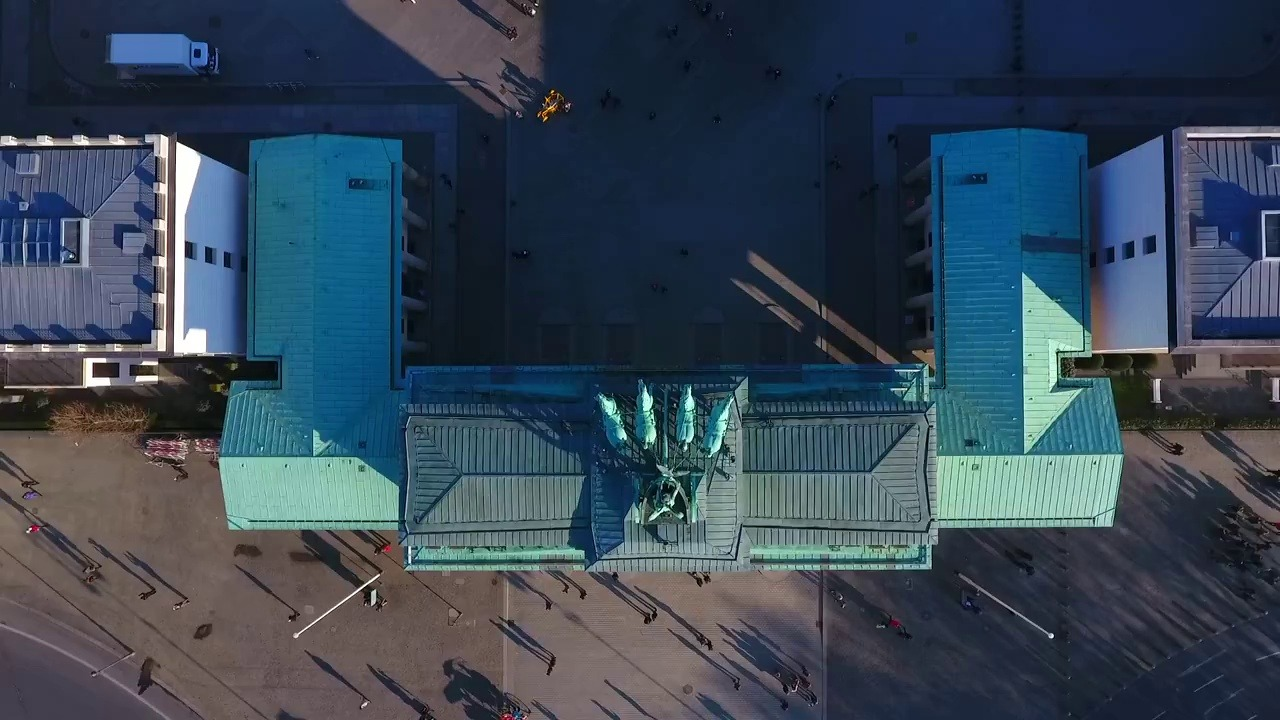truck: (99, 29, 226, 82)
